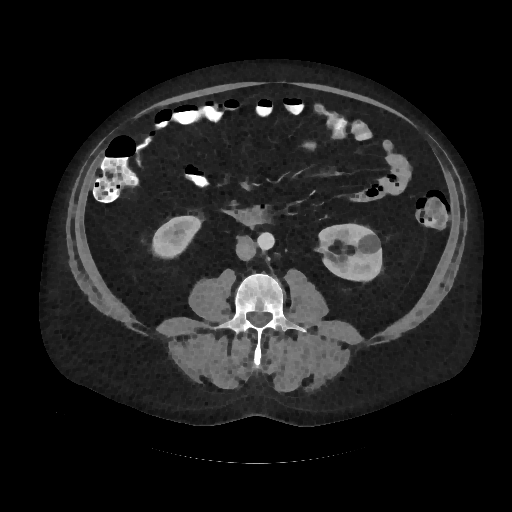Lesion: (356, 232, 383, 258)
